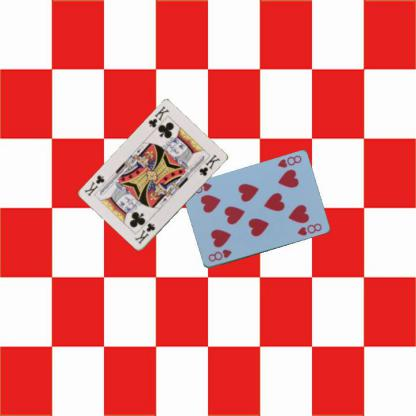8h: (275, 153, 303, 169), (206, 247, 233, 263)
Kc: (146, 103, 170, 129), (132, 221, 156, 245)
